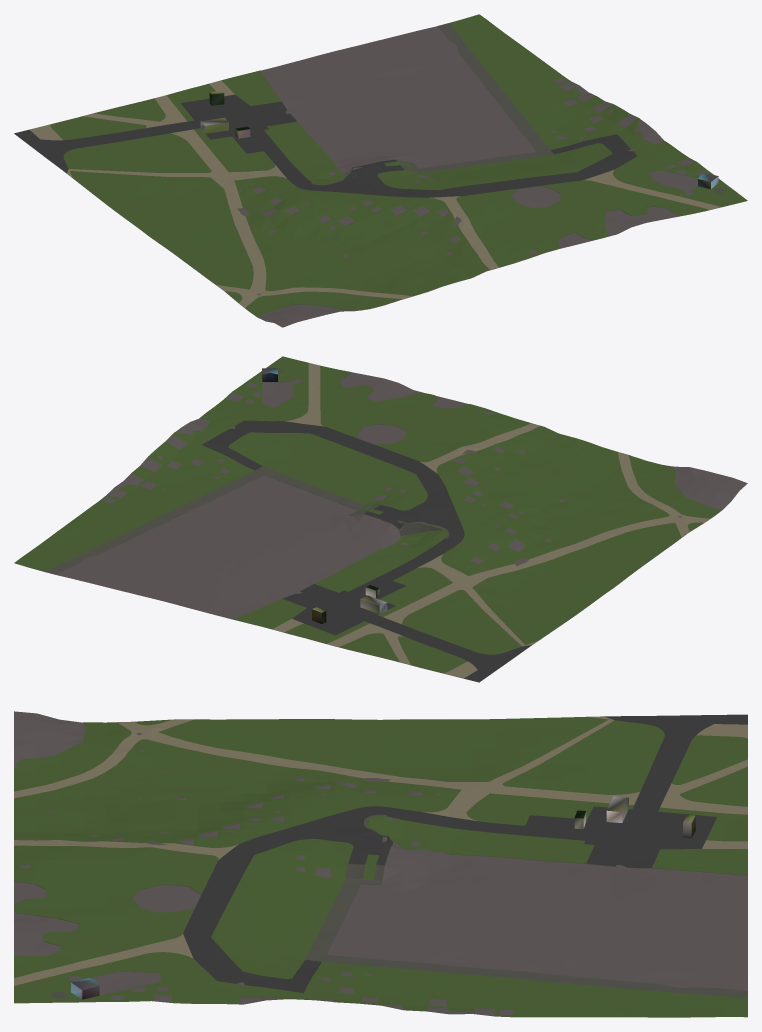
The picture shows the model from 3 angles, top to bottom: view 1: azimuth 30°, elevation 25°; view 2: azimuth 150°, elevation 25°; view 3: azimuth 270°, elevation 25°; orthographic projection. The views are drawn at different scales.
Visible parts, largest first — view 1: c_m10_m17; view 2: c_m10_m17; view 3: c_m10_m17.
Boxes of the visible parts, x1,y1,x2,y2 form: c_m10_m17: (14, 14, 747, 327); c_m10_m17: (14, 356, 747, 682); c_m10_m17: (14, 711, 747, 1017).
Bounding box in the file's own units: 128 × 8.17 × 128.
